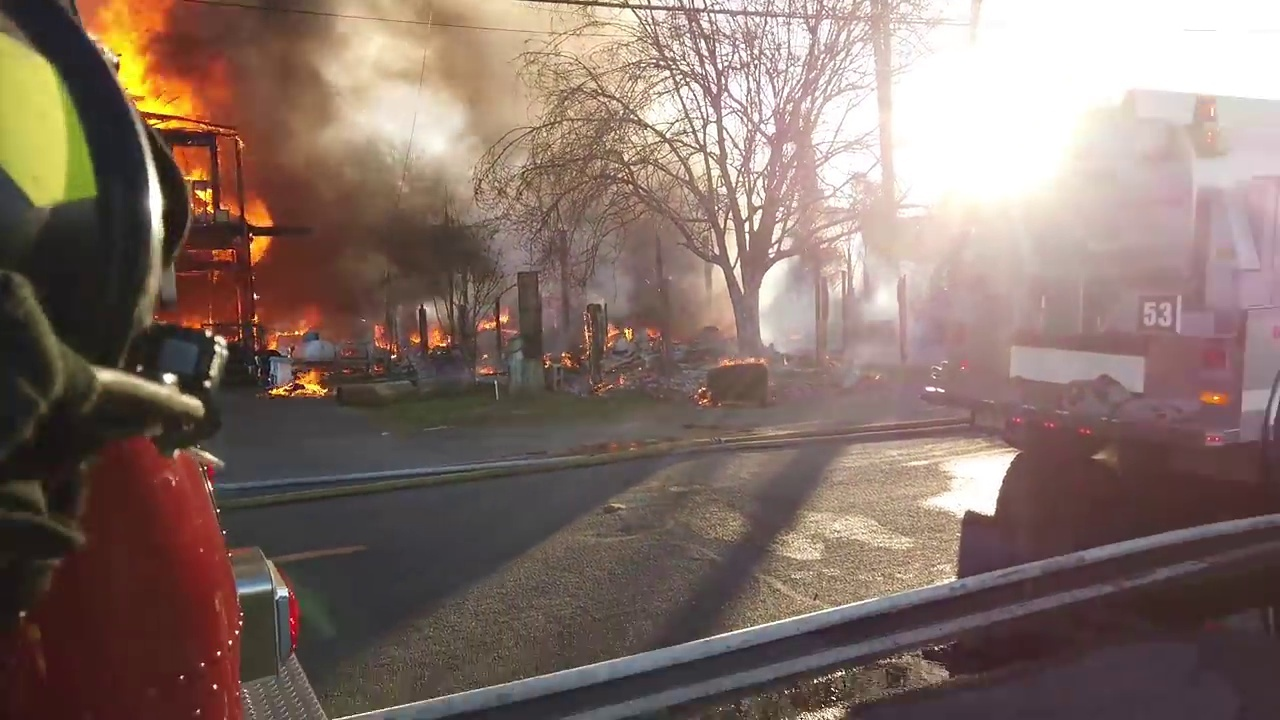fire: (85, 1, 212, 122), (174, 144, 222, 222), (226, 286, 263, 357), (244, 188, 276, 270), (276, 366, 328, 394), (265, 318, 310, 350), (587, 370, 632, 396), (683, 385, 722, 411), (371, 324, 400, 358), (719, 349, 767, 367), (639, 320, 664, 351), (605, 321, 632, 347), (475, 359, 508, 379), (175, 313, 213, 328), (424, 325, 450, 345), (544, 347, 572, 365), (477, 310, 503, 327), (411, 330, 423, 345)
smoke: (264, 1, 490, 330), (494, 1, 653, 208), (900, 232, 1018, 393), (611, 233, 704, 321), (529, 250, 595, 325), (766, 268, 814, 354), (862, 267, 898, 361), (181, 272, 225, 312)
